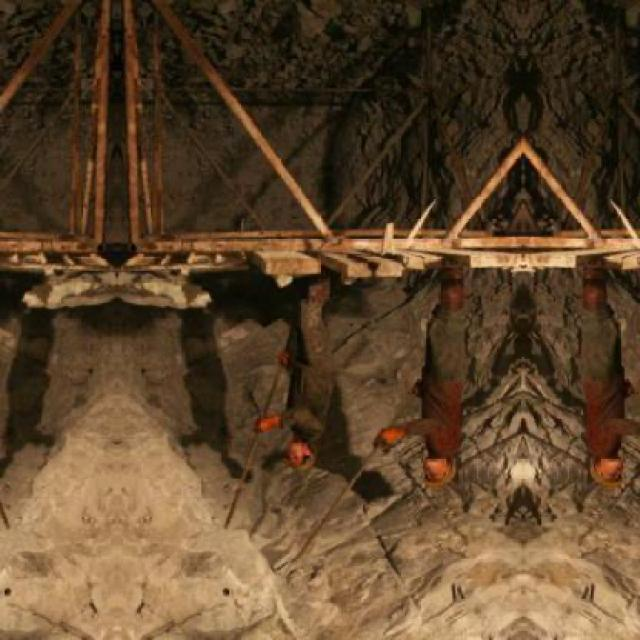sin casco: (256, 437, 326, 493), (401, 456, 460, 506)
